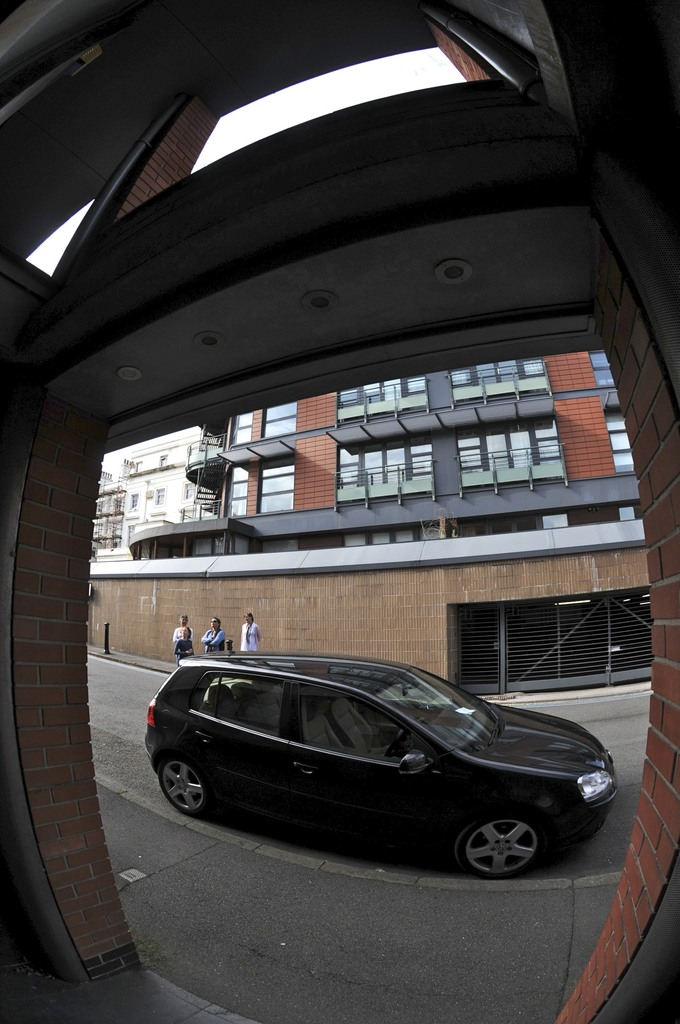Car: (129, 658, 632, 881)
